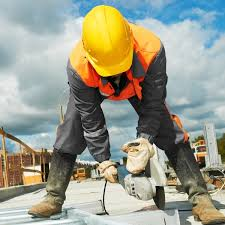Hard Hat: (81, 1, 138, 76)
